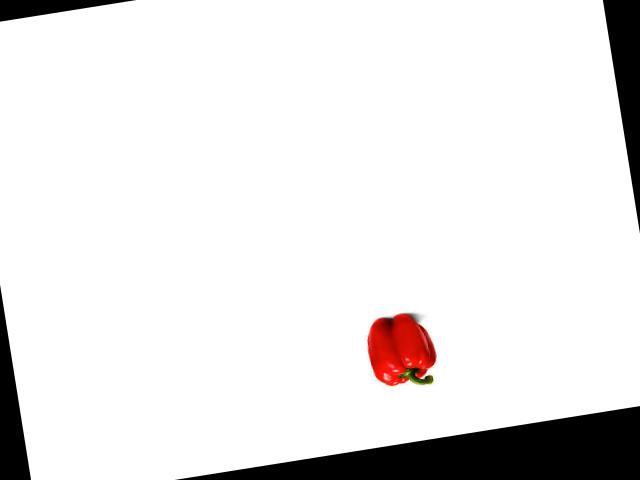bell_pepper: (361, 308, 440, 394)
